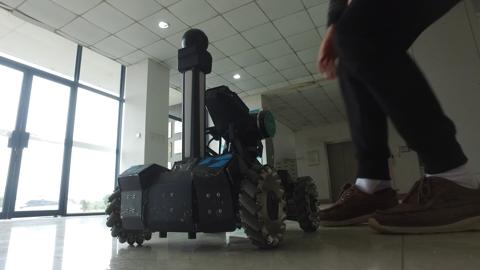chariot: (93, 25, 327, 254)
